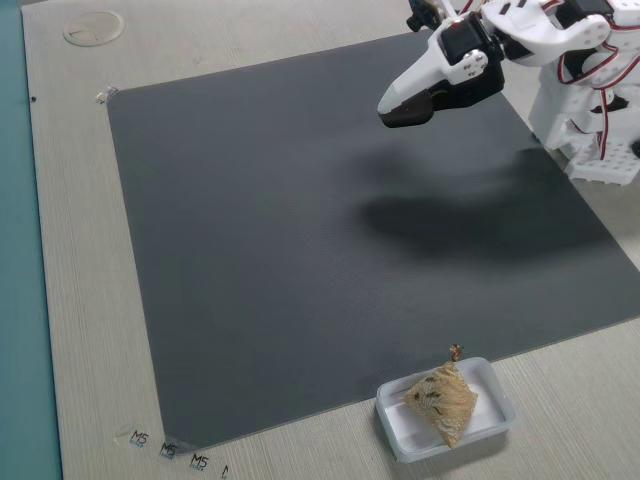gripper: (374, 13, 500, 141)
